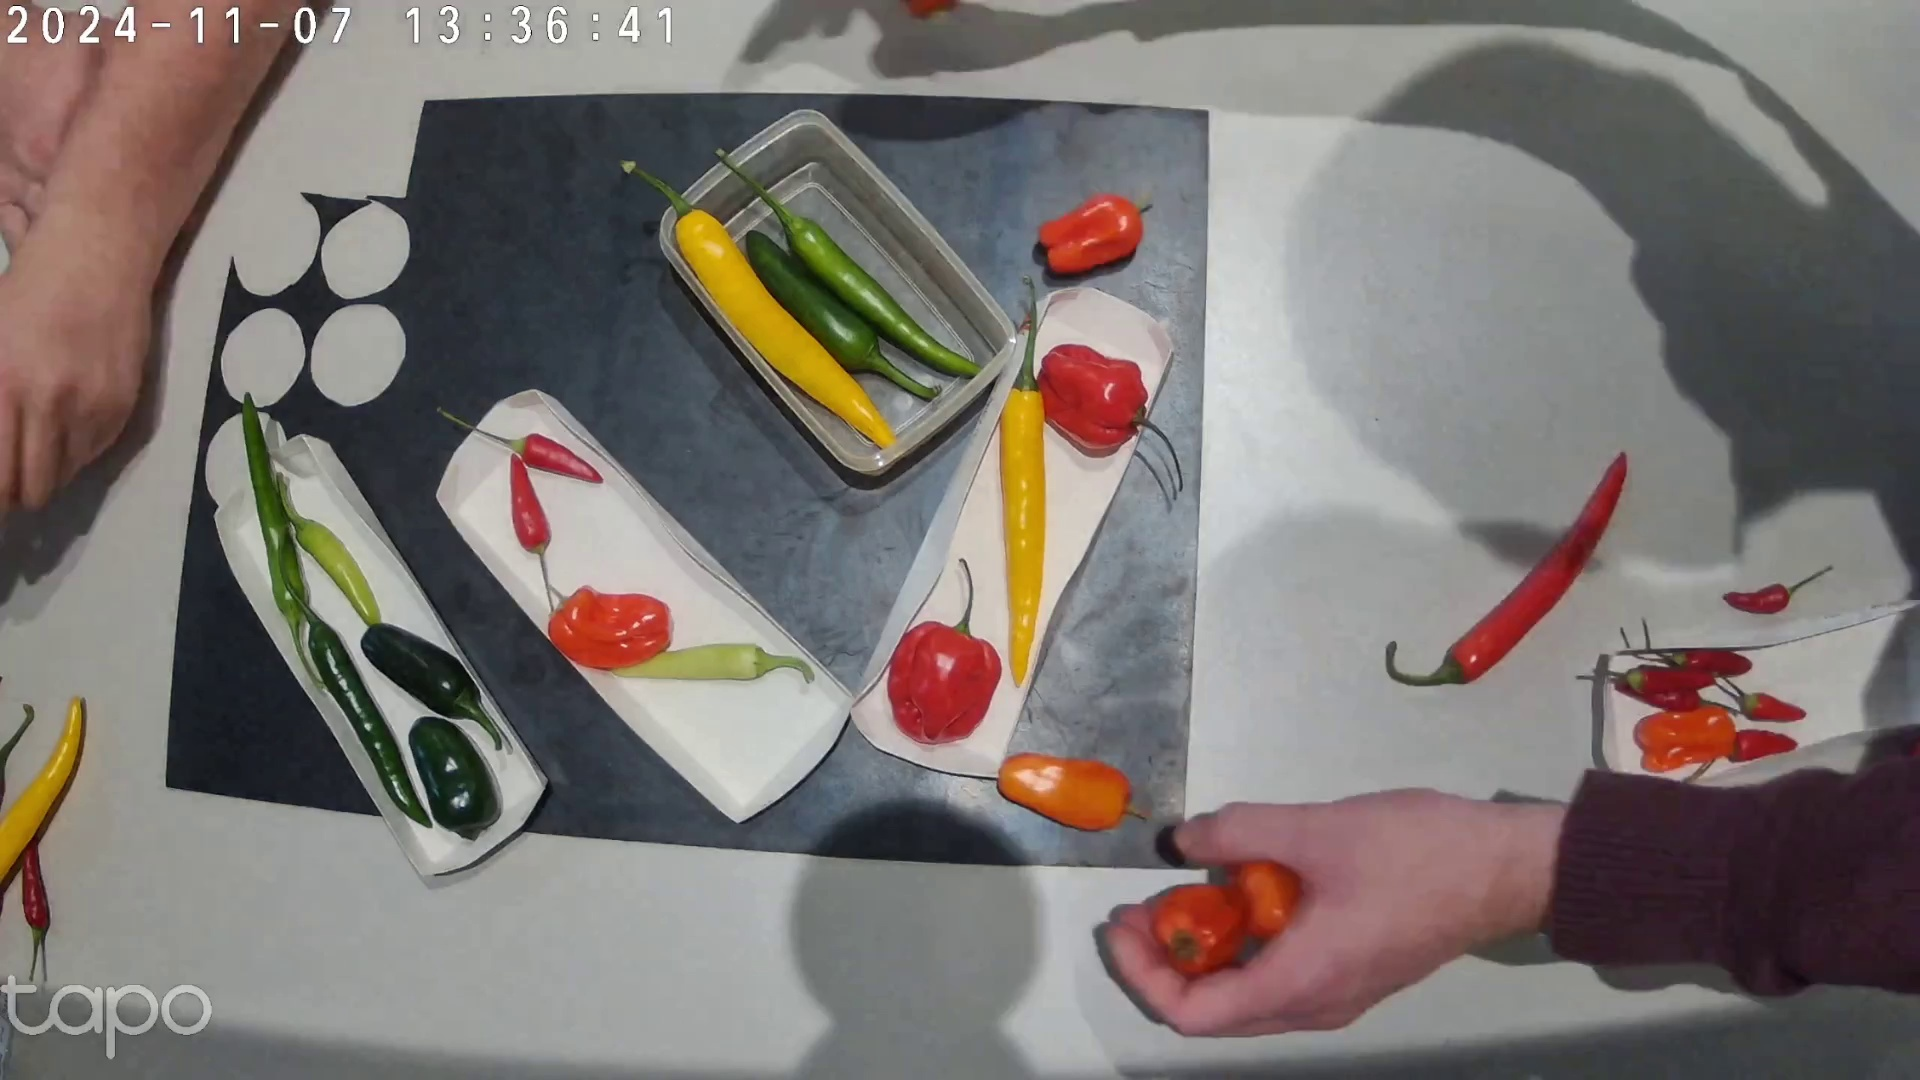Habanero_Pepper_Red: (1036, 344, 1183, 492), (887, 558, 1003, 745)
Jalapeno_Green: (745, 229, 942, 399), (360, 624, 502, 751), (408, 716, 503, 841)
Leon_Orange: (999, 753, 1148, 830), (548, 585, 672, 669), (1039, 192, 1152, 273), (1152, 884, 1247, 976), (1637, 708, 1737, 772)
Rawit_Green: (277, 471, 382, 627), (611, 643, 815, 685)
Rawit_Red: (437, 405, 604, 483), (510, 454, 555, 617), (1642, 617, 1752, 674), (1682, 730, 1798, 784), (1722, 564, 1833, 614), (1716, 670, 1807, 721), (22, 836, 49, 981), (1619, 684, 1745, 714), (1592, 667, 1716, 694)
Spanish_Pepper_Green: (715, 148, 983, 377), (278, 525, 433, 829), (241, 392, 326, 690)
Spanish_Pepper_Red: (1386, 451, 1627, 688)
Spanish_Pepper_Yellow: (620, 159, 899, 449), (999, 275, 1046, 688)
